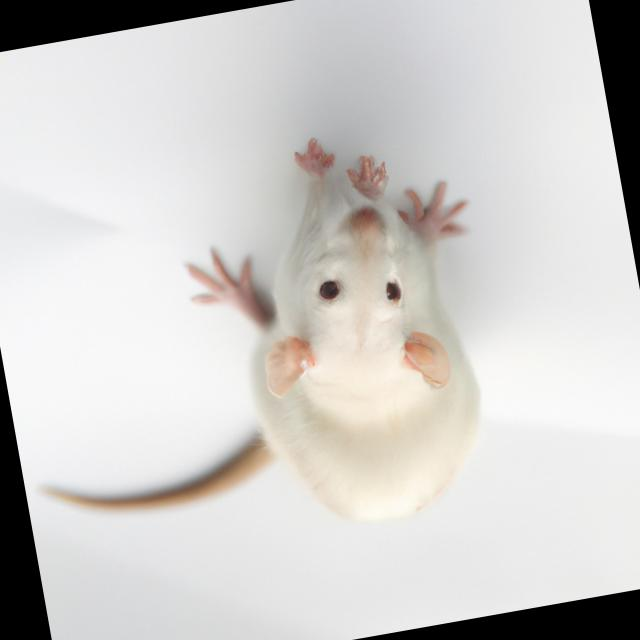rodents: (176, 100, 532, 568)
